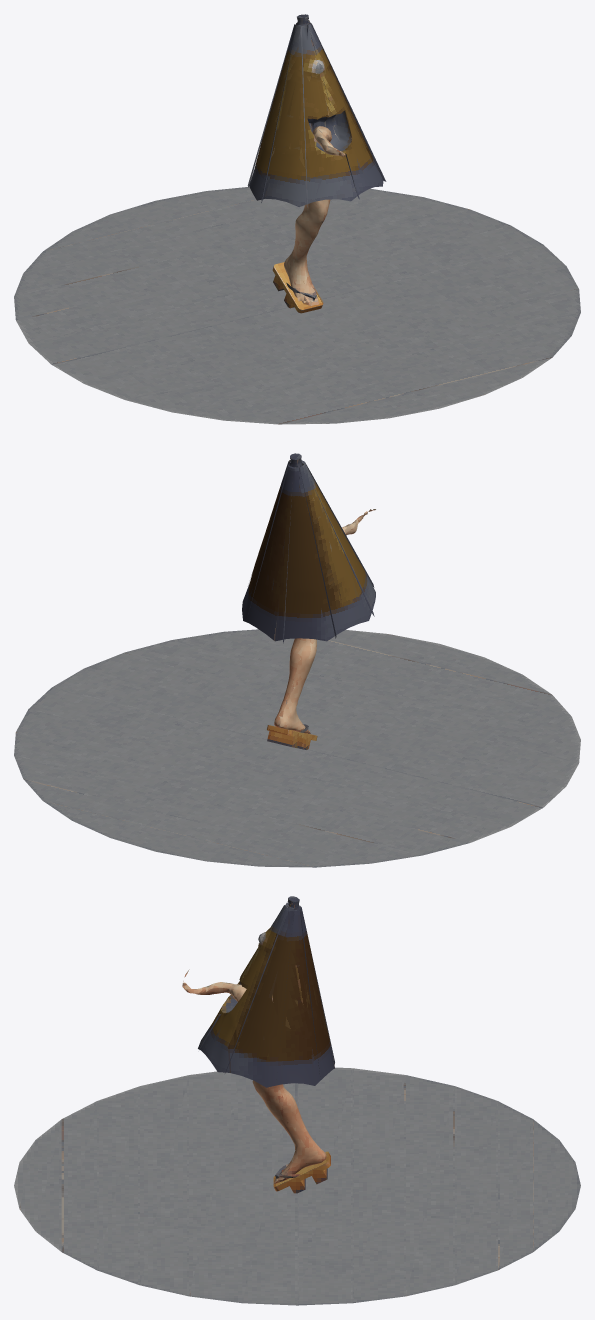
Rendered from yokai_kasa.glb.
The picture shows the model from 3 angles, top to bottom: view 1: azimuth 30°, elevation 25°; view 2: azimuth 150°, elevation 25°; view 3: azimuth 270°, elevation 25°; orthographic projection.
Parts seen in each view (by area): view 1: mesh; view 2: mesh; view 3: mesh.
Boxes of the visible parts, bbox=[...] form: mesh: bbox=[14, 14, 580, 424]; mesh: bbox=[14, 453, 580, 867]; mesh: bbox=[14, 896, 580, 1305].
Bounding box in the file's own units: 2.03 × 1.15 × 2.03.
1 material, 1 textured.
